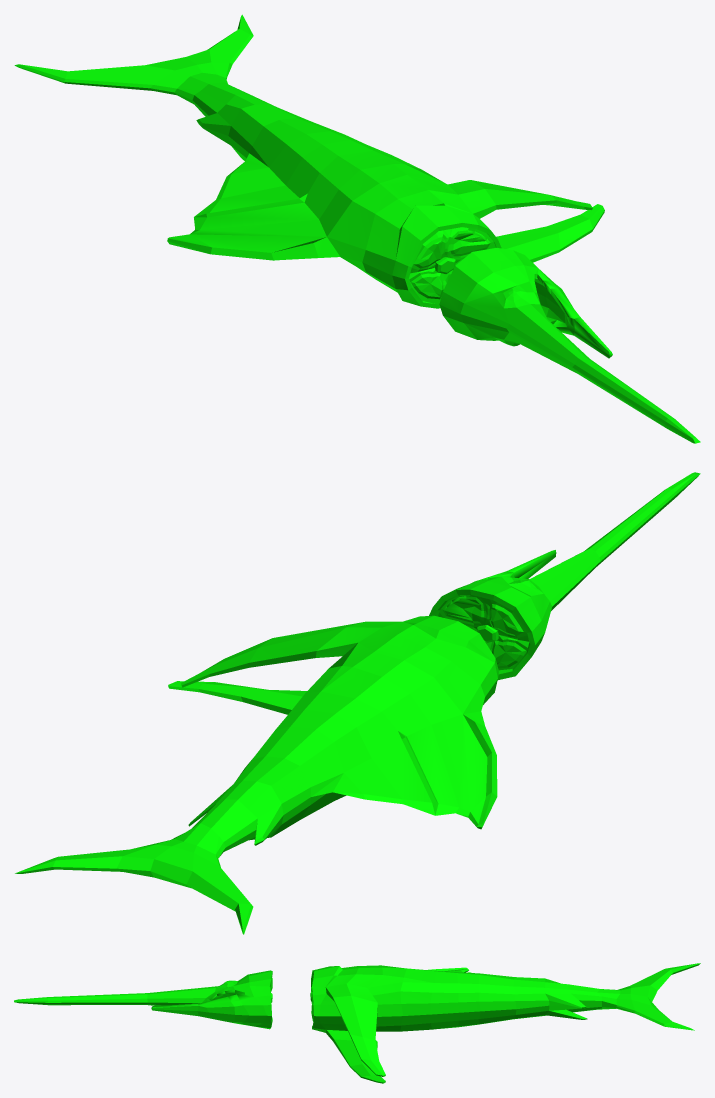
File: SM_Swordfish_Laying_Cut.fbx
3 renders of one model, top to bottom at view 1: azimuth 30°, elevation 25°; view 2: azimuth 150°, elevation 25°; view 3: azimuth 270°, elevation 25°, orthographic. The views are drawn at different scales.
Visible parts, largest first — view 1: swordfish-laying-cut-base, swordfish-laying-cut-head; view 2: swordfish-laying-cut-base, swordfish-laying-cut-head; view 3: swordfish-laying-cut-base, swordfish-laying-cut-head.
Part boxes in pixels (box(x1,y1,x2,y2)): swordfish-laying-cut-base: box(14, 14, 604, 308); swordfish-laying-cut-head: box(439, 247, 700, 443); swordfish-laying-cut-base: box(15, 615, 498, 934); swordfish-laying-cut-head: box(429, 472, 700, 679); swordfish-laying-cut-base: box(310, 963, 700, 1083); swordfish-laying-cut-head: box(14, 970, 272, 1029).
Bounding box in the file's own units: 1.19 × 0.294 × 3.13.
